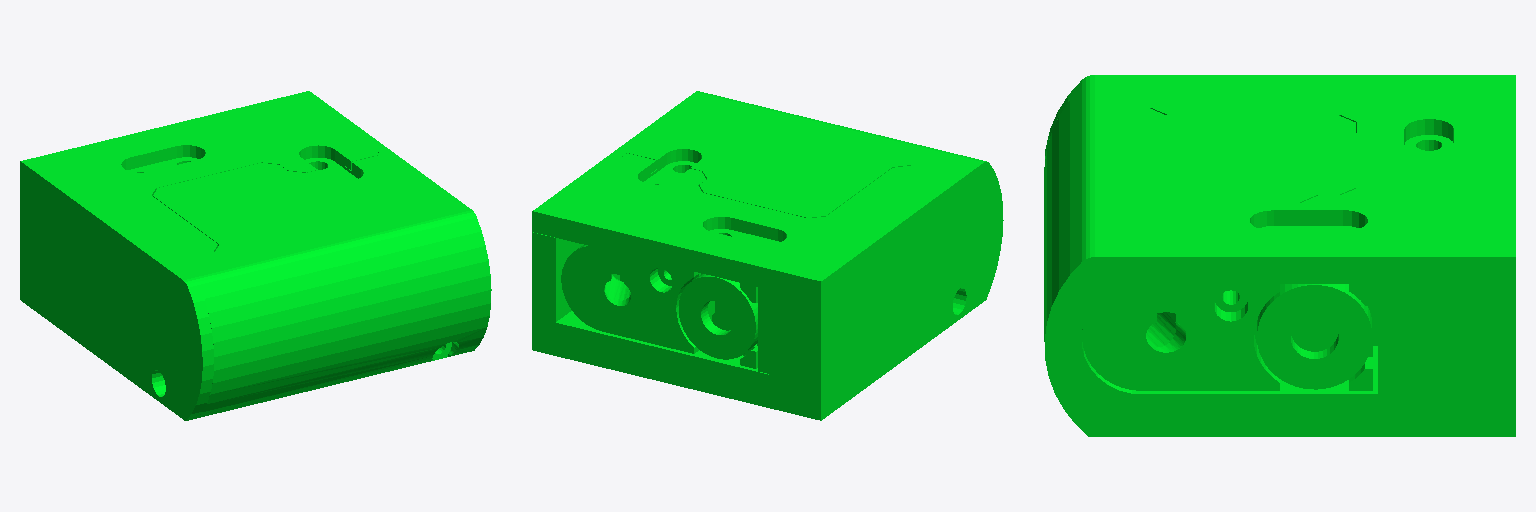
URDF robot description (sensor):
<?xml version="1.0"?>
<robot name="sensor">
  <link name="sensor_link">
    <visual>
      <origin rpy="0 0 0" xyz="-0.0294 -0.03361 -0.00976"/>
      <geometry>
        <mesh filename="package://display/urdf/sensor.STL" scale="0.001 0.001 0.001"/>
      </geometry>
      <material name="sensor_material">
        <color rgba="0.02 0.97 0.2 1"/>
      </material>
    </visual>
  </link>
</robot>

--- Facts derived from the render (not from the file) ---
3 views of the same robot in one strip: view 1: azimuth 30°, elevation 25°; view 2: azimuth 150°, elevation 25°; view 3: azimuth 270°, elevation 25° (orthographic).
Model sensor with 1 links and 0 joints (none), rooted at sensor_link, posed every joint at zero.
Links seen in each view (by area): view 1: sensor_link; view 2: sensor_link; view 3: sensor_link.
Boxes of the visible links, box(x1,y1,x2,y2) form: sensor_link: box(20, 91, 491, 420); sensor_link: box(532, 91, 1003, 420); sensor_link: box(1044, 75, 1515, 436).
Bounding box of the posed robot: 0.05 × 0.0547 × 0.023 m (x, y, z).
1 mesh visuals loaded from 1 distinct referenced files (1 binary STL).